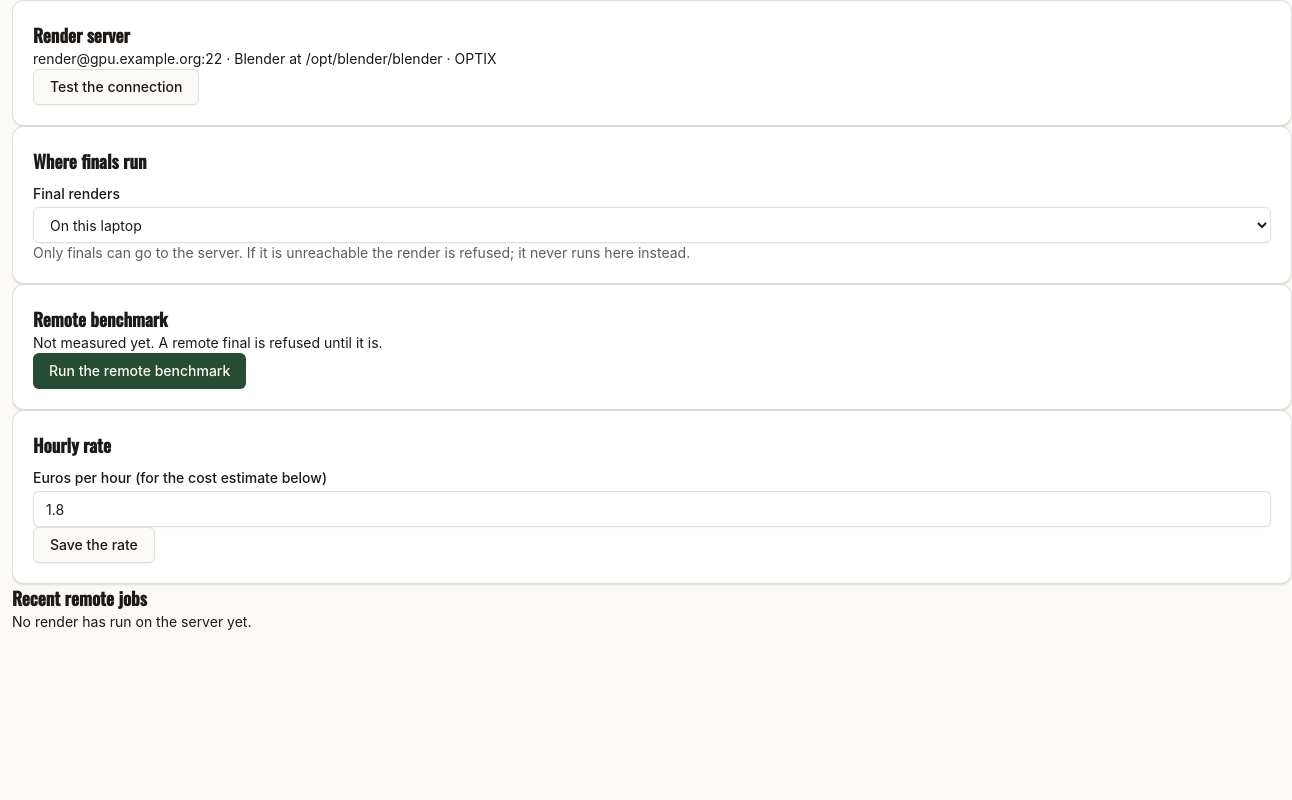
Test: a failed benchmark shows its reason
The image size is (1292, 800).
Click the button "Run the remote benchmark": click(140, 371) [33,353,246,389]
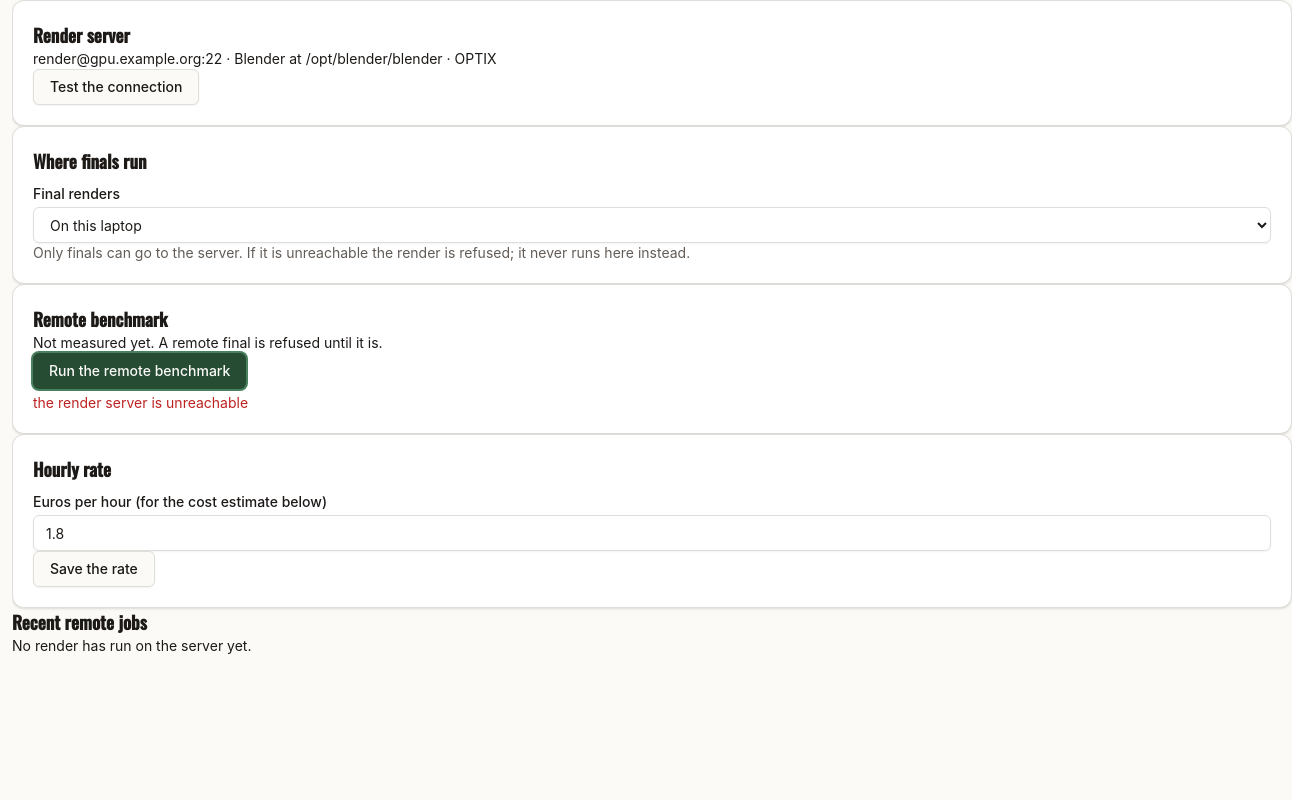
Expected: the text "the render server is unreachable" is shown, [33,394,248,411]
